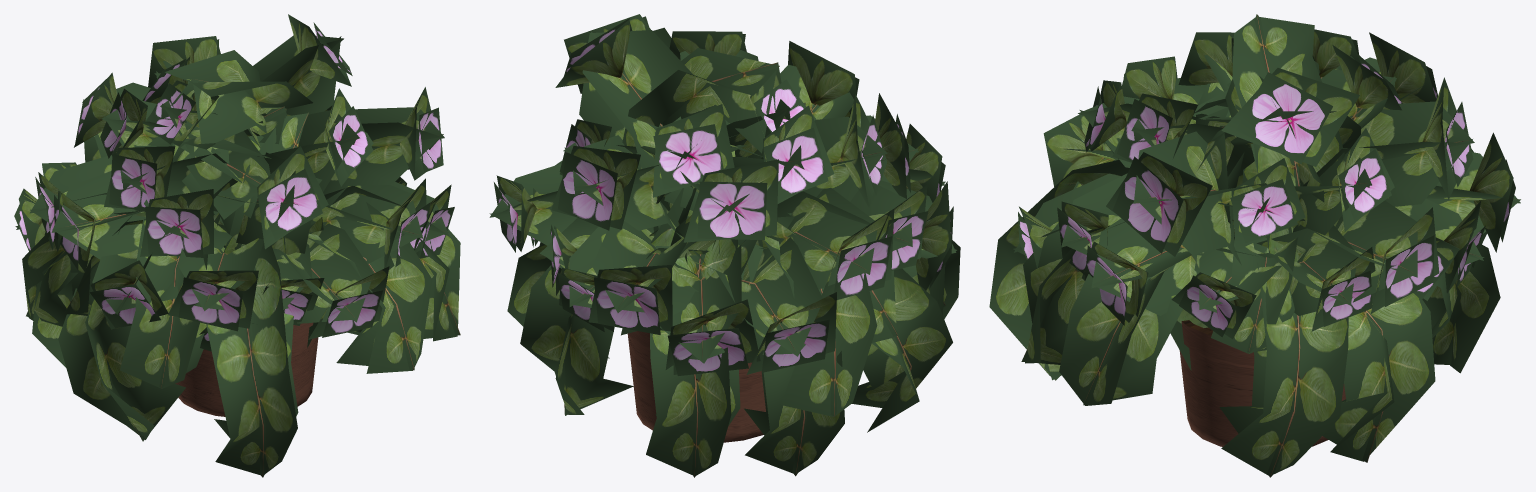
Rendered from Furniture_foliageplant_10_LOD0.fbx.
3 views of the same model, side by side, from view 1: azimuth 30°, elevation 25°; view 2: azimuth 150°, elevation 25°; view 3: azimuth 270°, elevation 25° (orthographic). The views are drawn at different scales.
Parts seen in each view (by area): view 1: F_foliageplant_10_LOD0_01, F_foliageplant_10_LOD0_02; view 2: F_foliageplant_10_LOD0_01, F_foliageplant_10_LOD0_02; view 3: F_foliageplant_10_LOD0_01, F_foliageplant_10_LOD0_02.
Boxes of the visible parts, x1,y1,x2,y2 form: F_foliageplant_10_LOD0_01: (14, 14, 460, 477); F_foliageplant_10_LOD0_02: (175, 322, 318, 416); F_foliageplant_10_LOD0_01: (489, 14, 960, 477); F_foliageplant_10_LOD0_02: (627, 331, 765, 442); F_foliageplant_10_LOD0_01: (989, 14, 1520, 477); F_foliageplant_10_LOD0_02: (1179, 320, 1345, 446).
Size of the model in its own units: 42.61 by 39.89 by 48.78.
